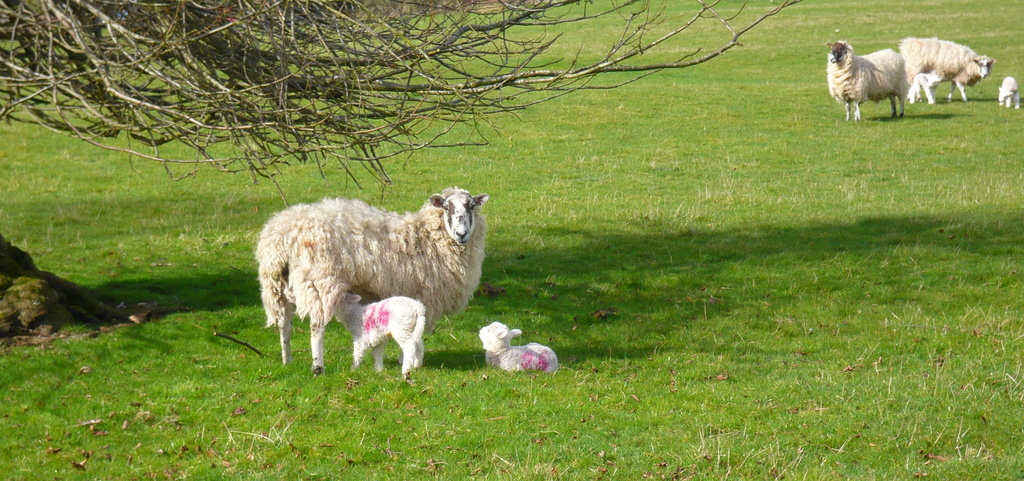sheep: (340, 287, 427, 374), (820, 38, 911, 119), (474, 320, 558, 374), (997, 72, 1023, 105)
